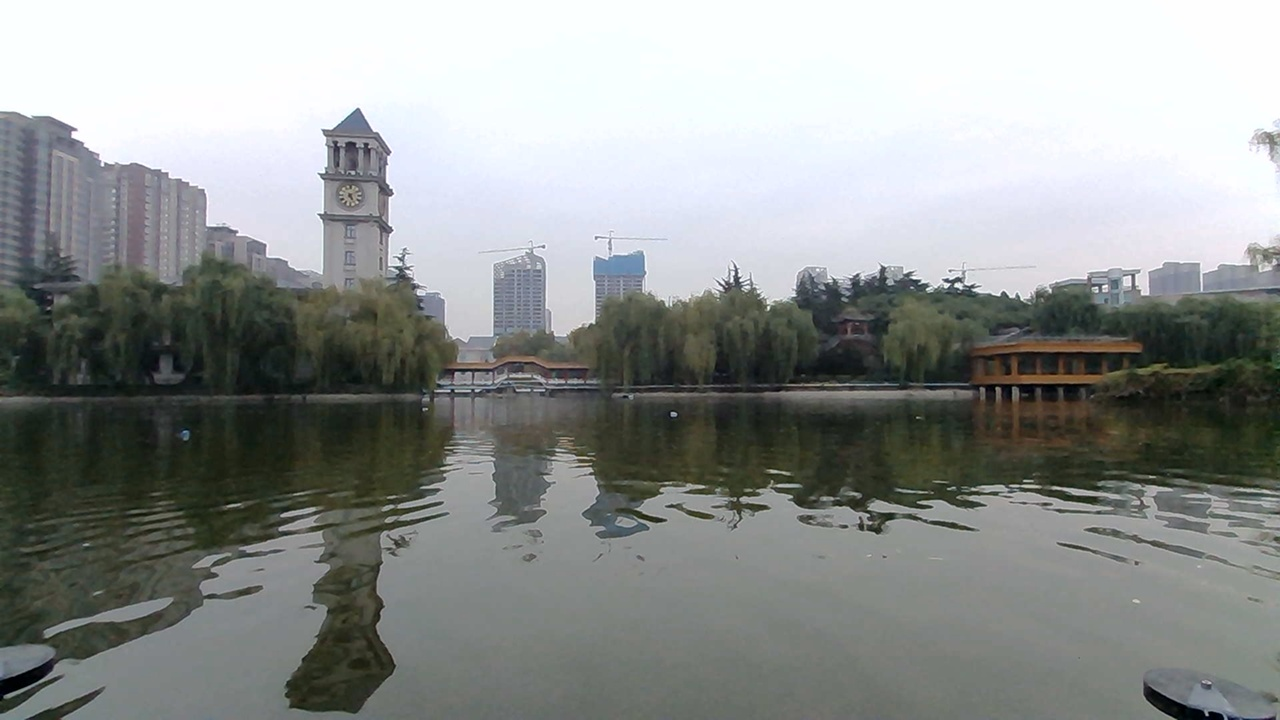bottle: (653, 400, 696, 424), (165, 425, 199, 447)
